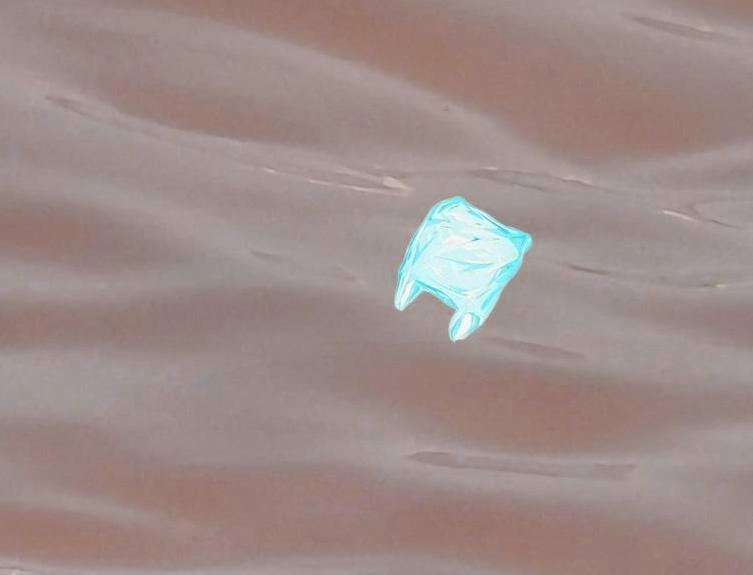Trash: (392, 198, 537, 346)
